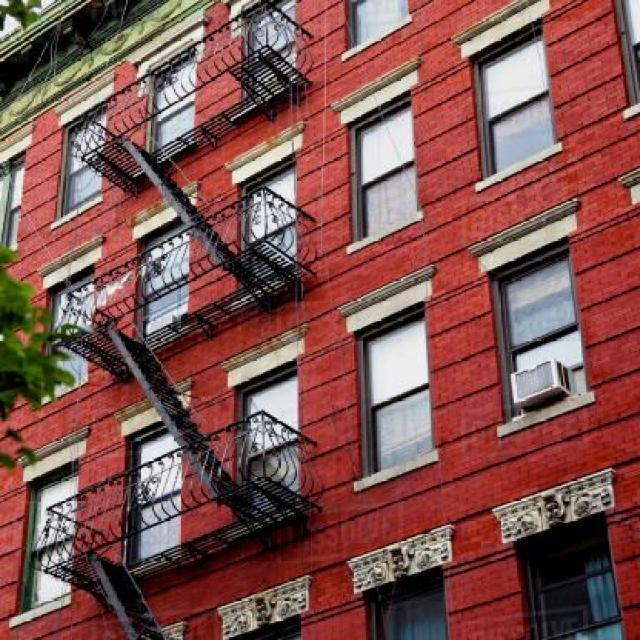stair: (75, 322, 292, 521), (96, 130, 276, 290), (48, 558, 196, 640)
